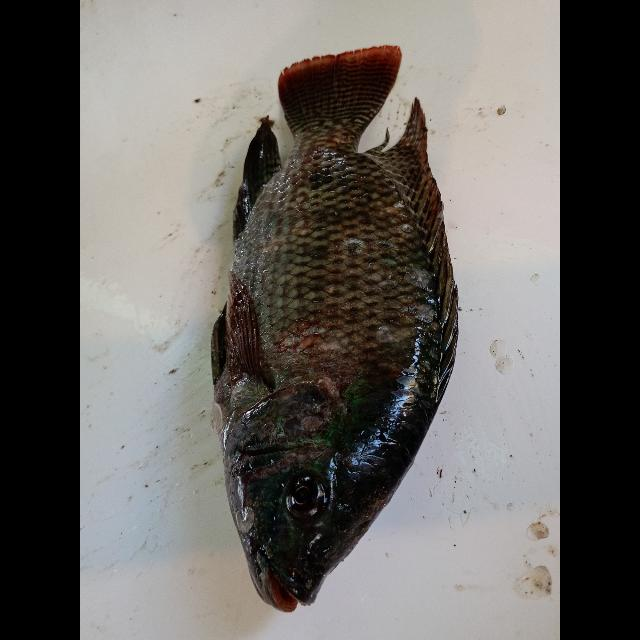Tilapia: (210, 42, 460, 614)
